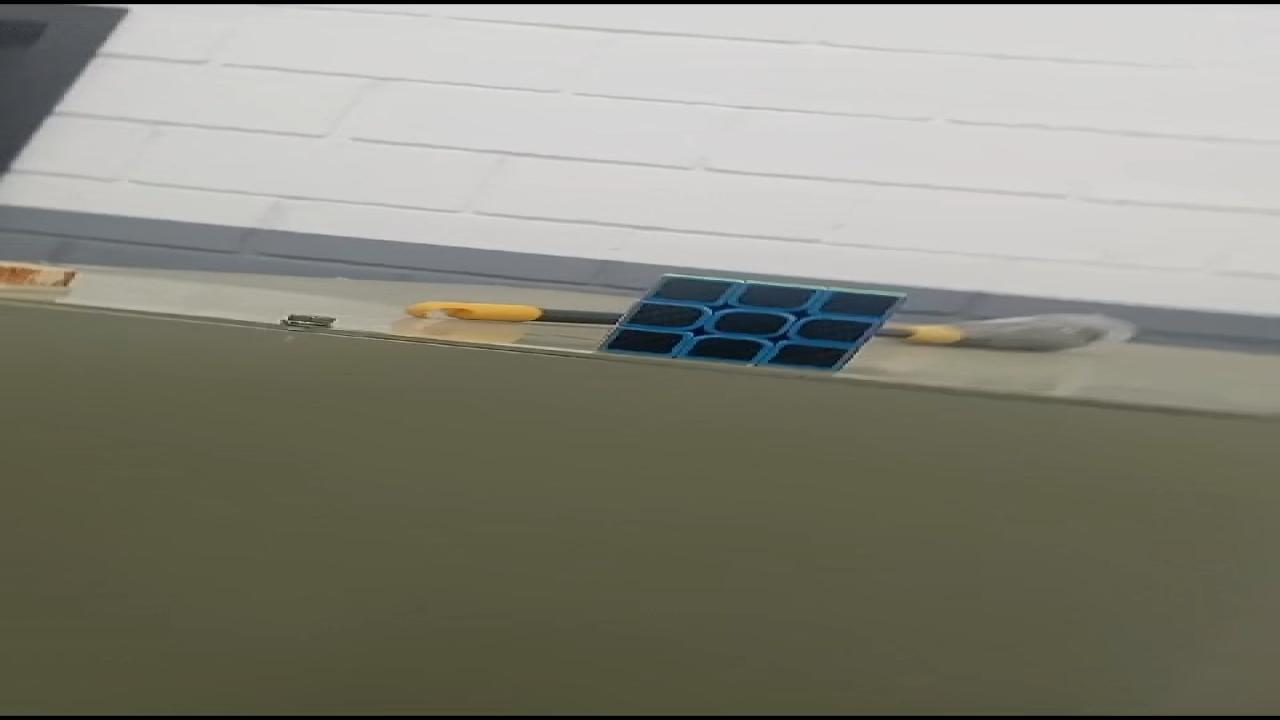Cube: (592, 272, 906, 374)
